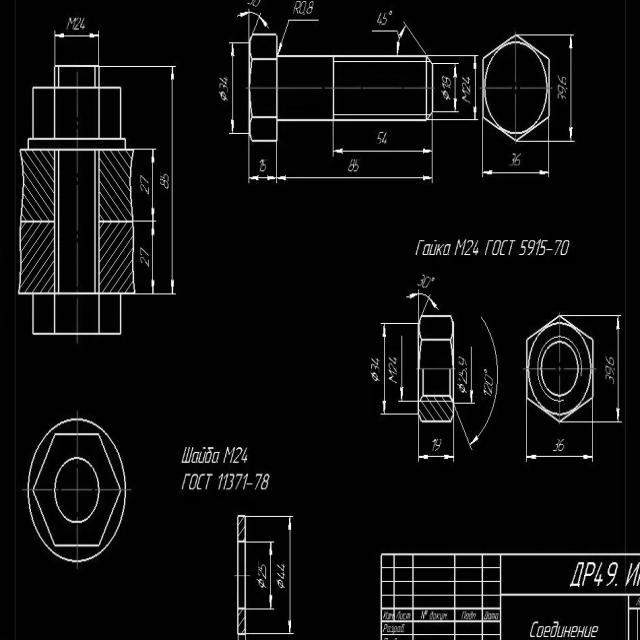marking_line: (169, 67, 177, 295), (229, 44, 237, 130), (287, 519, 293, 631), (568, 36, 574, 140), (381, 325, 387, 414), (616, 315, 621, 421), (150, 221, 156, 294), (269, 543, 275, 608), (151, 150, 156, 218), (56, 31, 97, 39), (527, 455, 592, 460), (484, 171, 548, 175), (250, 173, 275, 182), (400, 335, 403, 401), (420, 454, 453, 460)
numeric: (603, 353, 615, 383), (457, 355, 469, 384), (462, 74, 472, 108), (556, 74, 567, 102), (255, 558, 268, 579), (138, 174, 150, 196), (300, 1, 317, 16), (415, 274, 432, 289), (140, 245, 151, 268), (483, 375, 495, 396), (74, 15, 87, 31), (510, 152, 523, 168), (376, 11, 388, 28), (257, 156, 270, 171), (159, 172, 170, 189), (217, 74, 228, 91), (429, 438, 442, 452), (388, 355, 398, 373), (554, 438, 565, 454), (349, 157, 358, 174), (442, 74, 451, 91), (369, 358, 380, 371), (377, 132, 386, 146), (248, 0, 262, 8), (277, 563, 284, 579)
special_symbol: (441, 87, 452, 103), (218, 89, 228, 104), (369, 372, 381, 384), (276, 577, 286, 591), (256, 577, 267, 589), (458, 384, 469, 396), (389, 10, 394, 18), (484, 368, 489, 376), (431, 277, 436, 282)
